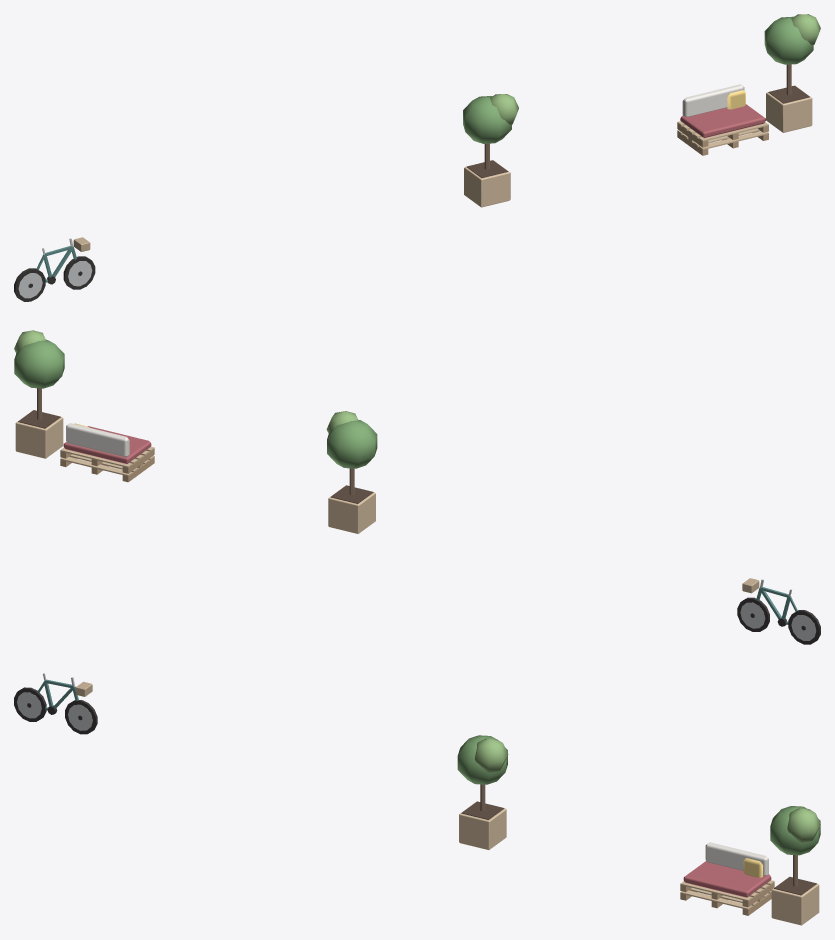
Rendered from einrichtung_hof_buehne.glb.
3 renders of one model, top to bottom at view 1: azimuth 30°, elevation 25°; view 2: azimuth 150°, elevation 25°; view 3: azimuth 330°, elevation 25°, orthographic. The views are drawn at different scales.
Visible parts, largest first — view 1: einrichtung_hof_buehne; view 2: einrichtung_hof_buehne; view 3: einrichtung_hof_buehne.
Part boxes in pixels (x1,y1,x2,y2): einrichtung_hof_buehne: (14,14,820,301); einrichtung_hof_buehne: (14,330,820,644); einrichtung_hof_buehne: (14,673,820,925).
Bounding box in the file's own units: 14.4 × 1.9 × 0.8294.
